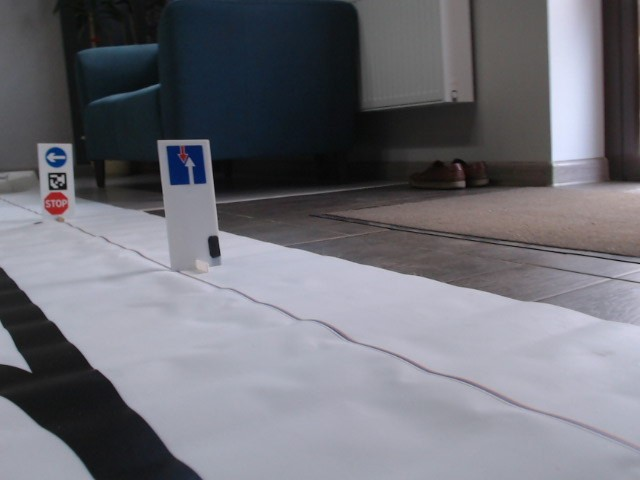Stop: (42, 191, 70, 216)
priority_movement: (164, 144, 208, 186)
